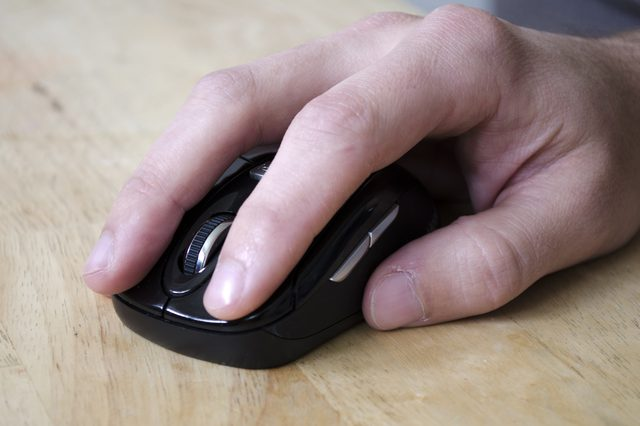finger: (199, 40, 456, 313), (87, 21, 341, 288), (357, 199, 563, 332)
